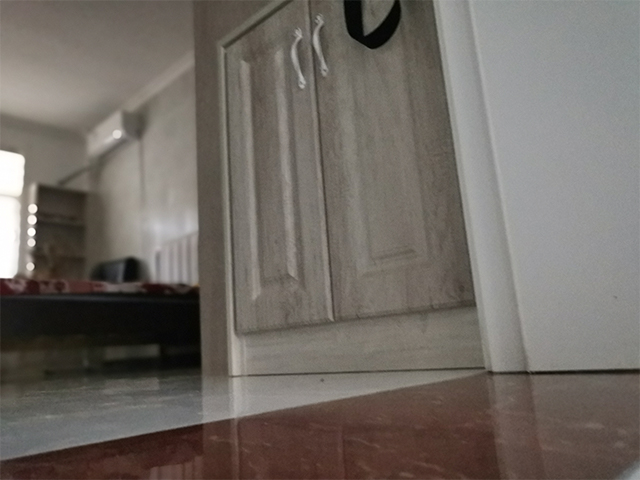bed: (1, 275, 201, 373)
cabinet: (187, 1, 487, 379)
